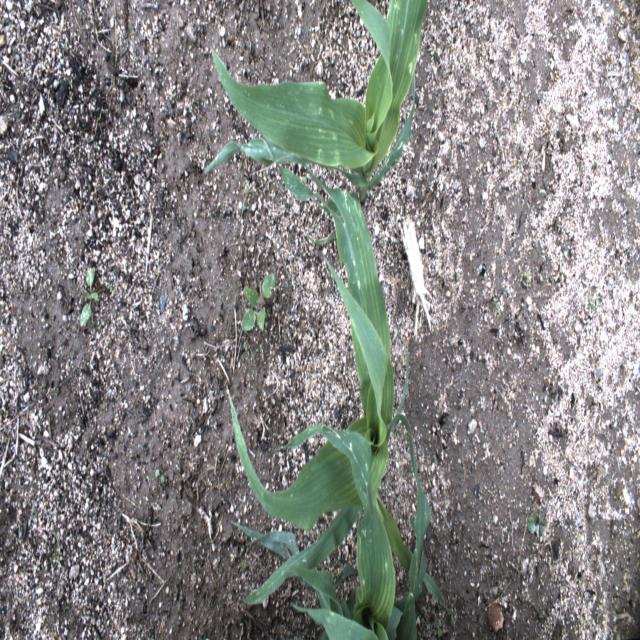crop: (224, 168, 430, 576), (243, 420, 456, 637), (200, 0, 429, 197)
weed: (238, 274, 276, 336), (76, 263, 103, 331), (524, 506, 544, 545), (49, 526, 65, 572), (519, 266, 535, 298), (153, 456, 167, 488), (484, 292, 501, 316), (67, 68, 78, 91), (594, 363, 604, 385)
